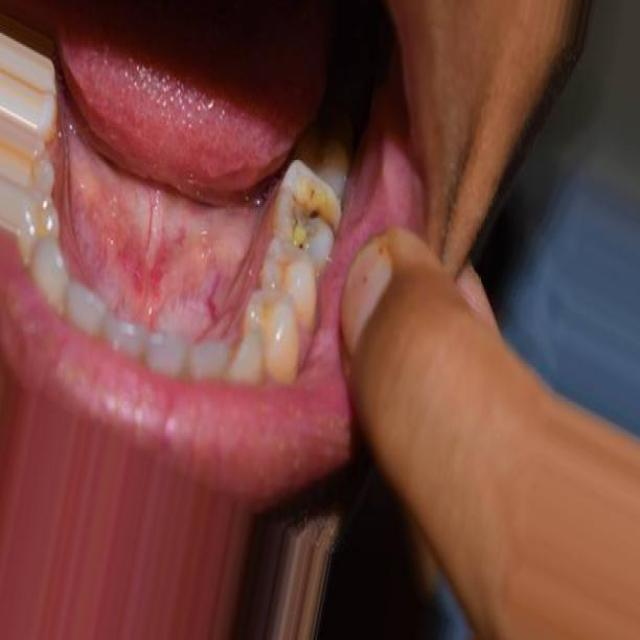caries: (268, 164, 340, 264)
